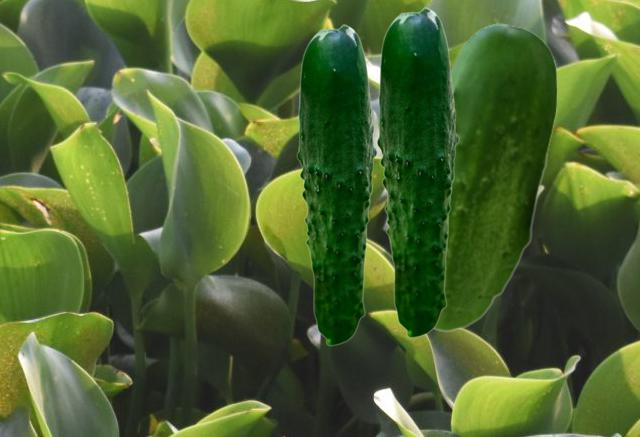cucumber: (434, 23, 556, 331), (376, 7, 458, 337), (296, 24, 376, 345)
